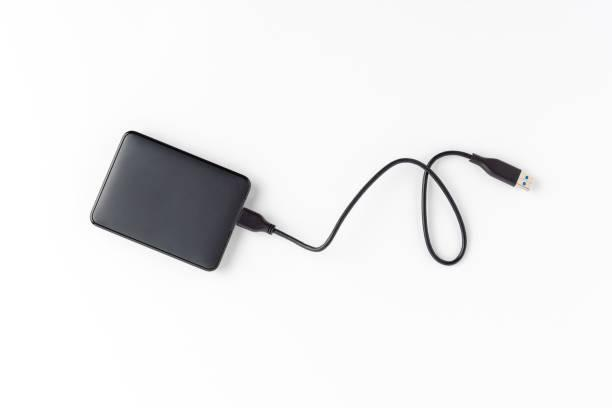HDD: (89, 131, 252, 273)
